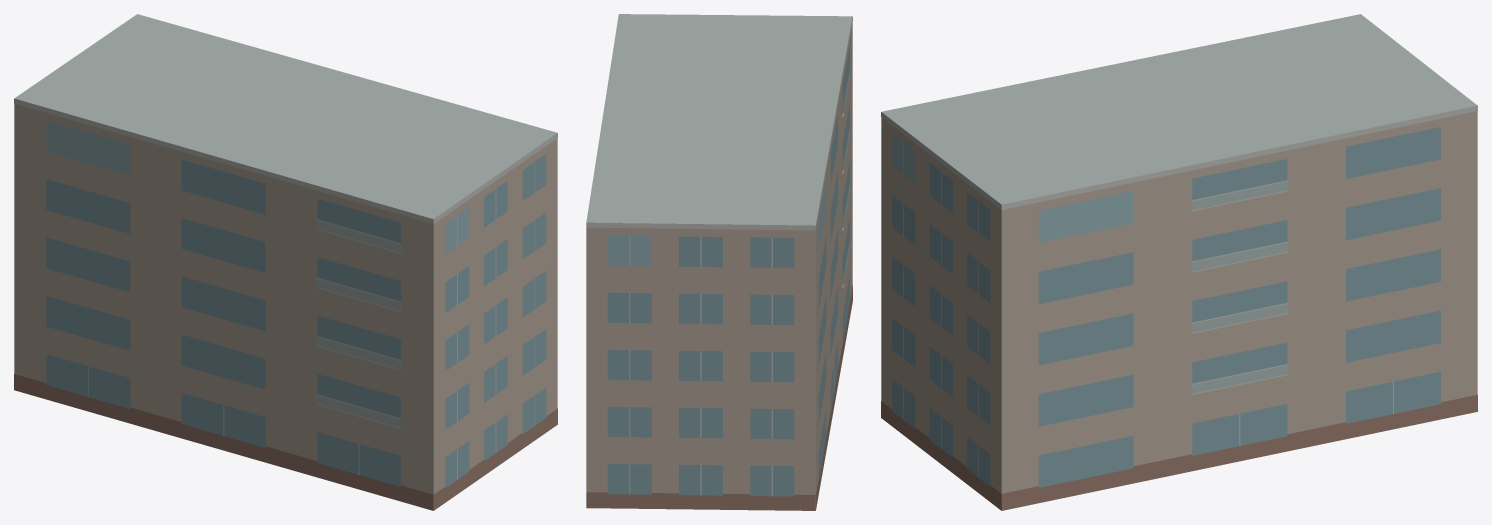
The model's file is survey-upis-32770009.glb.
The picture shows the model from 3 angles, left to right: view 1: azimuth 30°, elevation 25°; view 2: azimuth 150°, elevation 25°; view 3: azimuth 270°, elevation 25°; orthographic projection. The views are drawn at different scales.
Parts seen in each view (by area): view 1: survey-upis-32770009.tmp; view 2: survey-upis-32770009.tmp; view 3: survey-upis-32770009.tmp.
Part boxes in pixels (left/top/right/bottom): survey-upis-32770009.tmp: left=14, top=14, right=557, bottom=510; survey-upis-32770009.tmp: left=586, top=14, right=852, bottom=510; survey-upis-32770009.tmp: left=881, top=14, right=1477, bottom=510.
Bounding box in the file's own units: 18.85 × 14.1 × 24.91.
